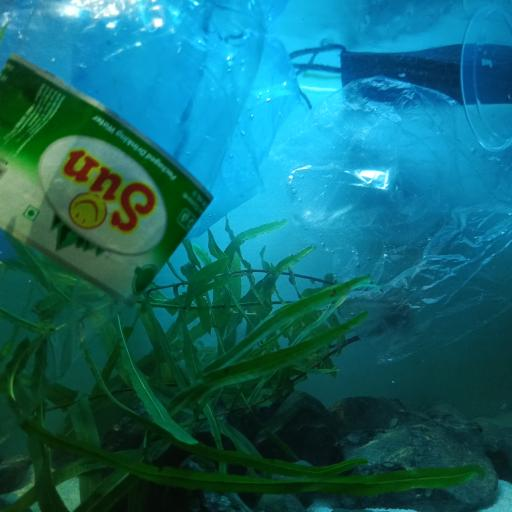mask: (287, 39, 512, 113)
plastic_bag: (0, 0, 273, 289), (269, 73, 512, 366)
plastic_bottle: (0, 0, 272, 488)
plastic_cup: (460, 0, 512, 151)
